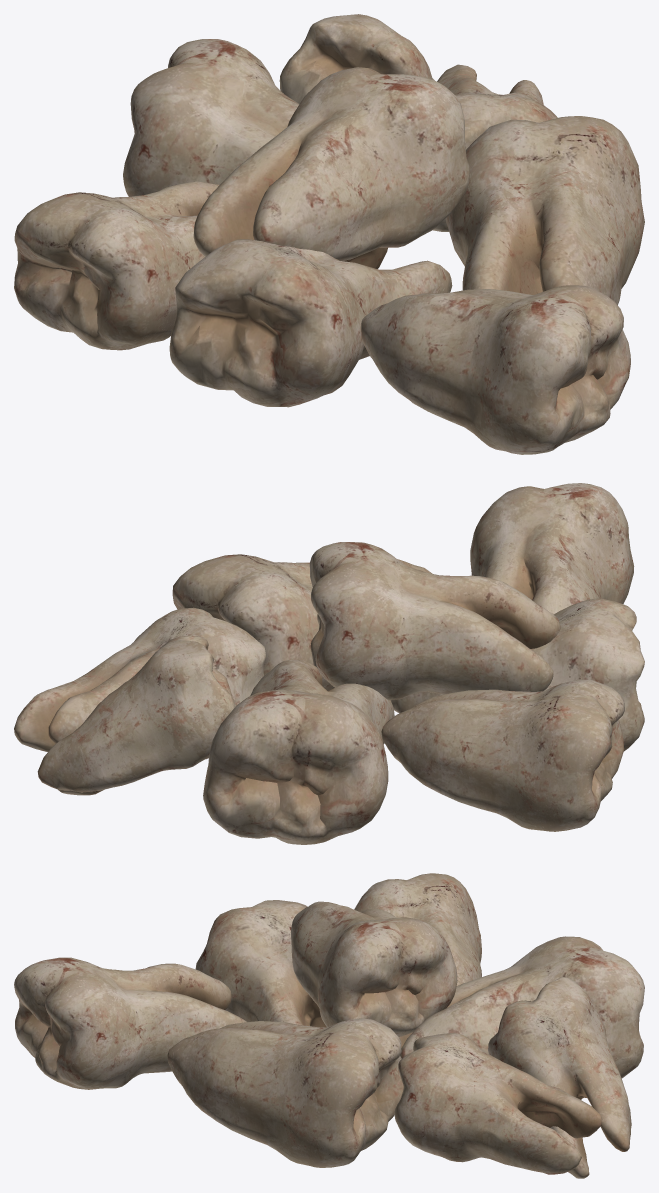
Rendered from pile_of_teeth.glb.
The picture shows the model from 3 angles, top to bottom: view 1: azimuth 30°, elevation 25°; view 2: azimuth 150°, elevation 25°; view 3: azimuth 270°, elevation 25°; orthographic projection. The views are drawn at different scales.
Parts seen in each view (by area): view 1: tooth.Shape; view 2: tooth.Shape; view 3: tooth.Shape.
Part boxes in pixels (<box>): tooth.Shape: <box>14,14,644,454</box>; tooth.Shape: <box>14,483,644,844</box>; tooth.Shape: <box>14,873,644,1178</box>.
Bounding box in the file's own units: 0.0313 × 0.0115 × 0.0371.
Materials: 1 (1 with a texture image).
